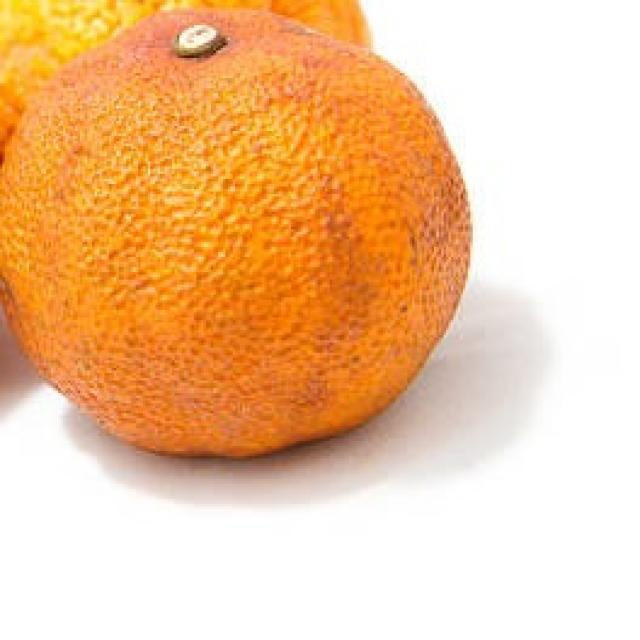overripe: (0, 0, 475, 466)
